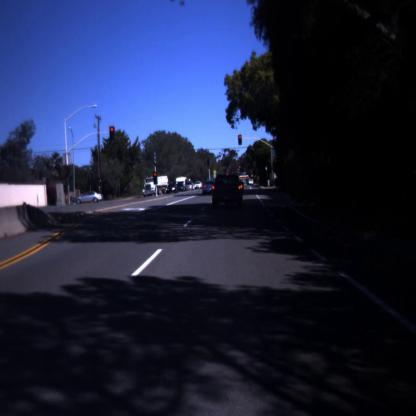trafficlight: (109, 126, 116, 143), (236, 135, 243, 147), (153, 171, 158, 186)
